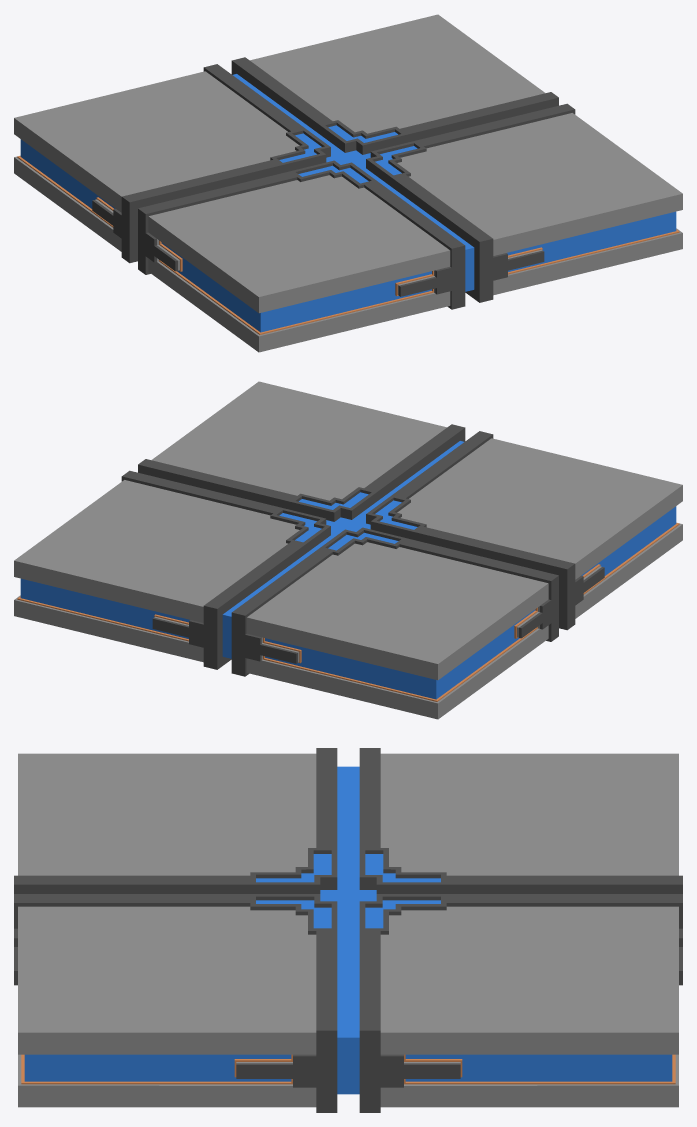
The model's file is SM_FMovingPlatform_03.FBX.
The picture shows the model from 3 angles, top to bottom: view 1: azimuth 30°, elevation 25°; view 2: azimuth 150°, elevation 25°; view 3: azimuth 270°, elevation 25°; orthographic projection. The views are drawn at different scales.
Visible parts, largest first — view 1: SM_MovingPlatform_007; view 2: SM_MovingPlatform_007; view 3: SM_MovingPlatform_007.
Boxes of the visible parts, x1,y1,x2,y2 form: SM_MovingPlatform_007: [14, 14, 682, 352]; SM_MovingPlatform_007: [14, 381, 682, 719]; SM_MovingPlatform_007: [14, 748, 682, 1112].
Bounding box in the file's own units: 404 × 54.87 × 405.
